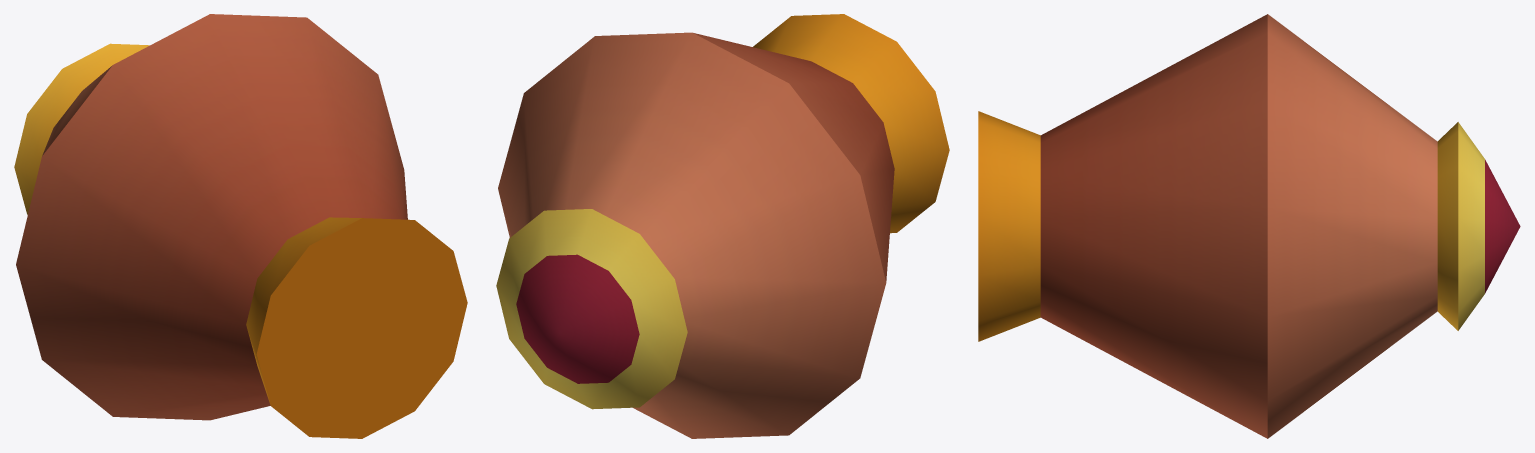
The model's file is Urn 02.FBX.
3 views of the same model, side by side, from view 1: azimuth 30°, elevation 25°; view 2: azimuth 150°, elevation 25°; view 3: azimuth 270°, elevation 25° (orthographic). The views are drawn at different scales.
Parts seen in each view (by area): view 1: Urn 02; view 2: Urn 02; view 3: Urn 02.
Part boxes in pixels (<box>): Urn 02: <box>14,14,467,438</box>; Urn 02: <box>496,14,949,438</box>; Urn 02: <box>978,14,1520,438</box>.
Size of the model in its own units: 65.52 by 83.26 by 65.52.
1 material, 1 textured.
